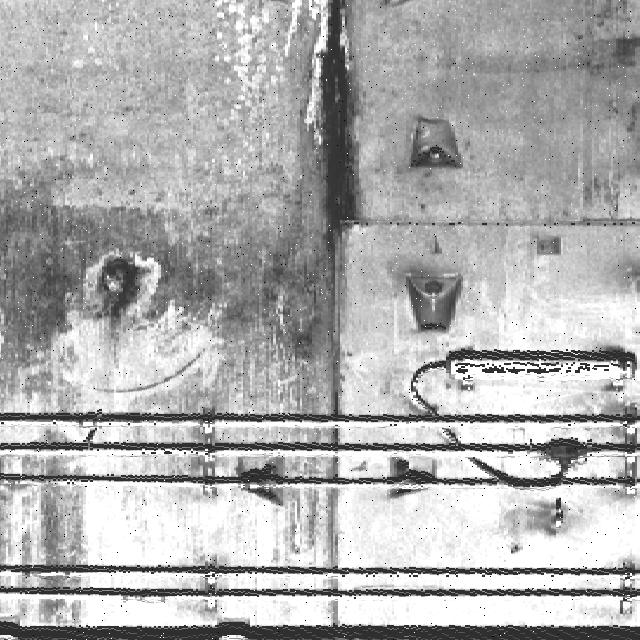leakage: (294, 0, 383, 250)
